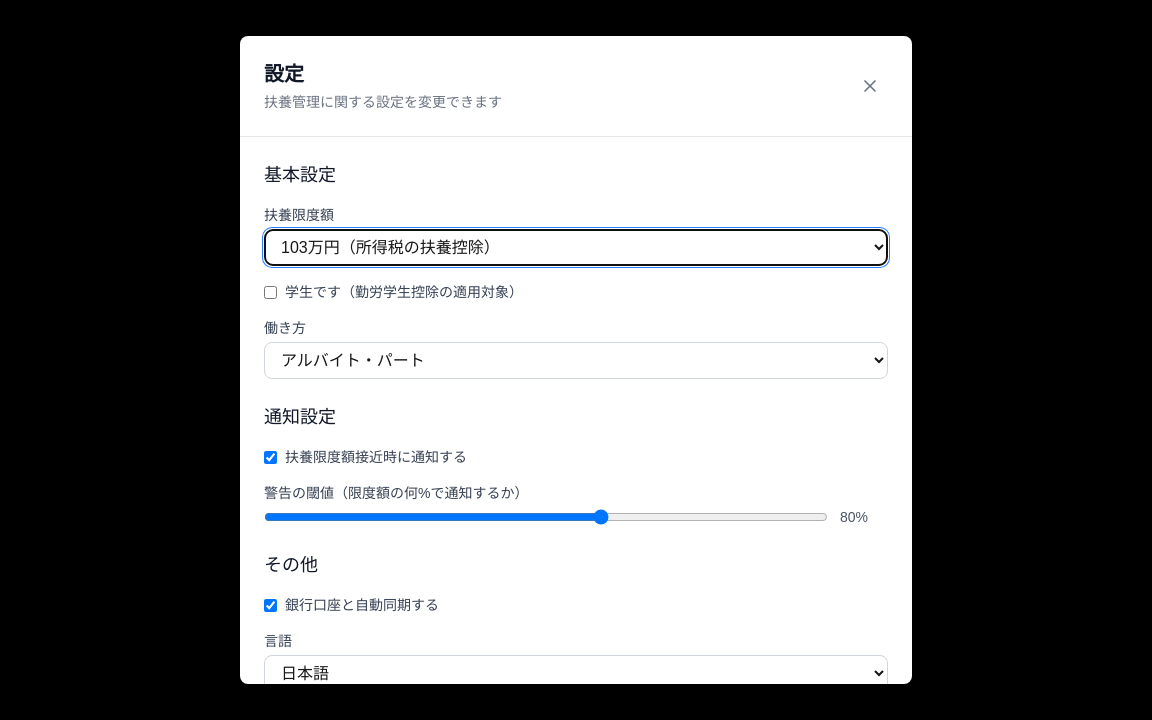
Test: SettingsModal › 設定を変更すると保存ボタンが有効になる
The width and height of the screenshot is (1152, 720).
Select "130万円（社会保険の扶養・一般）" in the dropdown labelled "扶養限度額" at (576, 248), box x1=264 y1=229 x2=888 y2=266
(page scrolled)
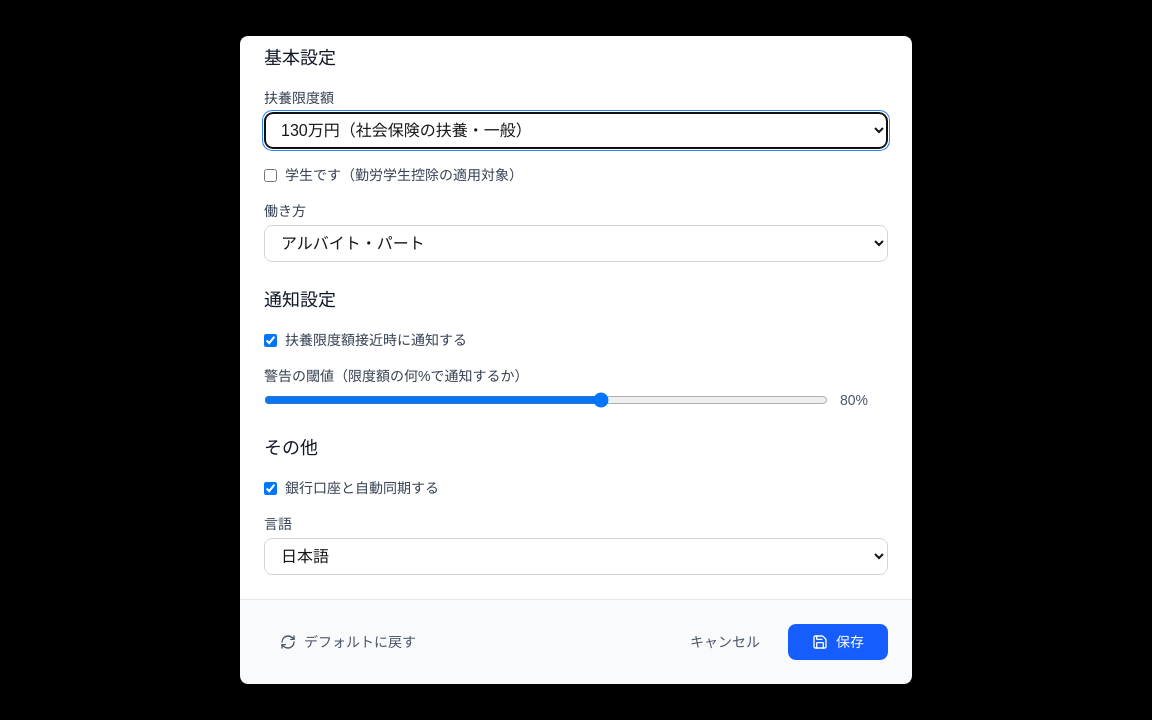
Check: the button "保存" is enabled, box x1=788 y1=624 x2=888 y2=660
